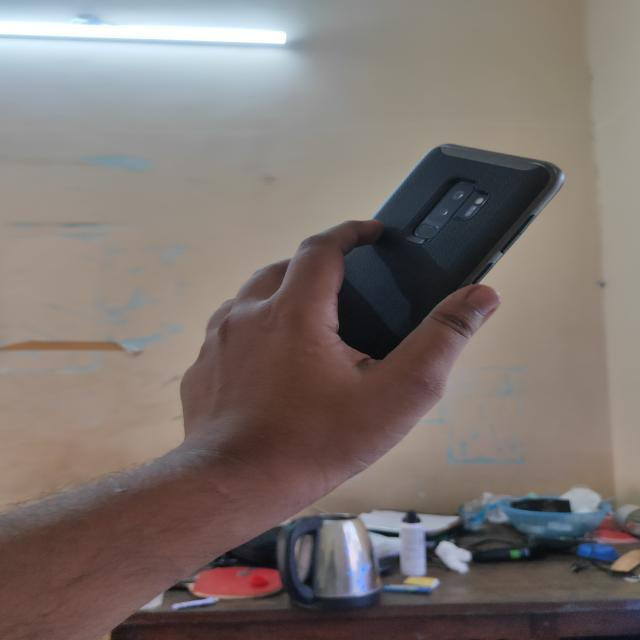Phone: (334, 138, 571, 343)
